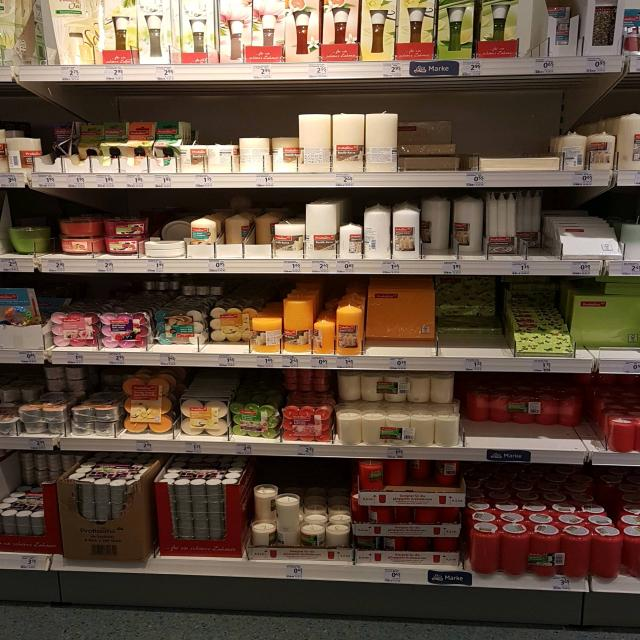unorganised: (420, 191, 554, 255), (366, 310, 510, 354), (466, 401, 600, 446), (577, 310, 640, 355), (206, 293, 250, 353), (216, 200, 273, 246), (298, 114, 331, 174), (366, 113, 397, 173), (386, 459, 437, 490), (364, 203, 391, 260), (4, 138, 42, 174), (237, 138, 270, 173), (105, 217, 148, 240), (253, 484, 277, 525), (57, 218, 103, 239), (563, 130, 586, 171), (206, 145, 239, 173), (276, 493, 300, 531), (327, 523, 350, 546)
